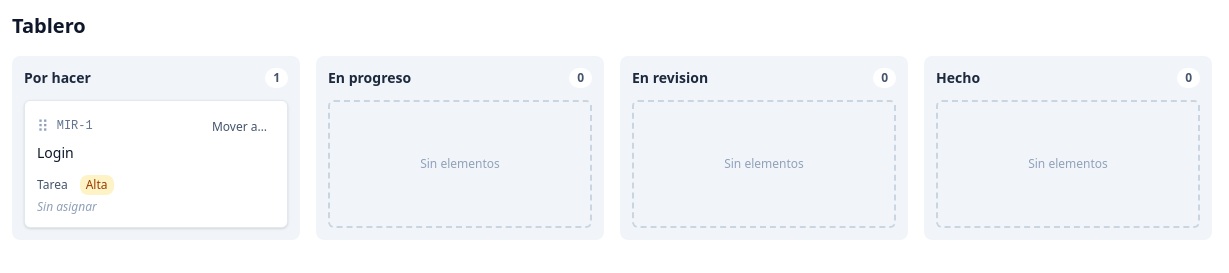
Scenario: KanbanBoard › mover tarjetas con el menu "Mover a…" (MIR-19) › Escape cierra el menu sin mover y devuelve el foco al boton
The width and height of the screenshot is (1229, 273).
Click the button "Mover a…" at (239, 127), box [204,115,275,139]
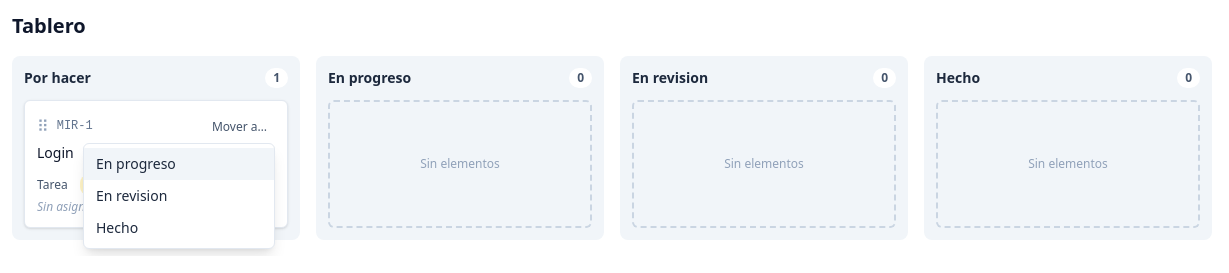
Press Escape
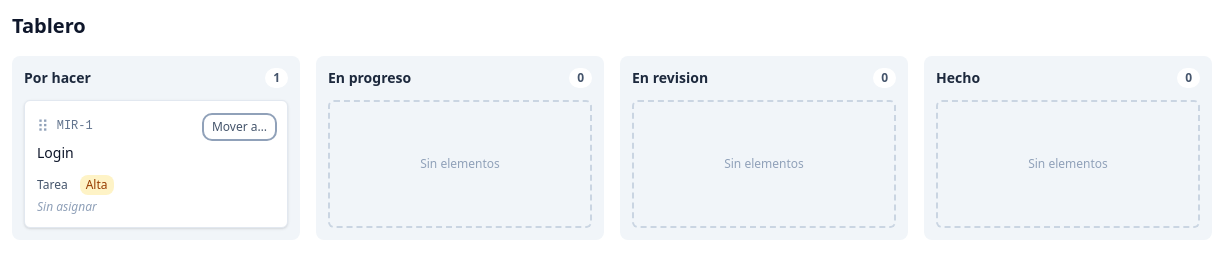
Now the menu is gone
